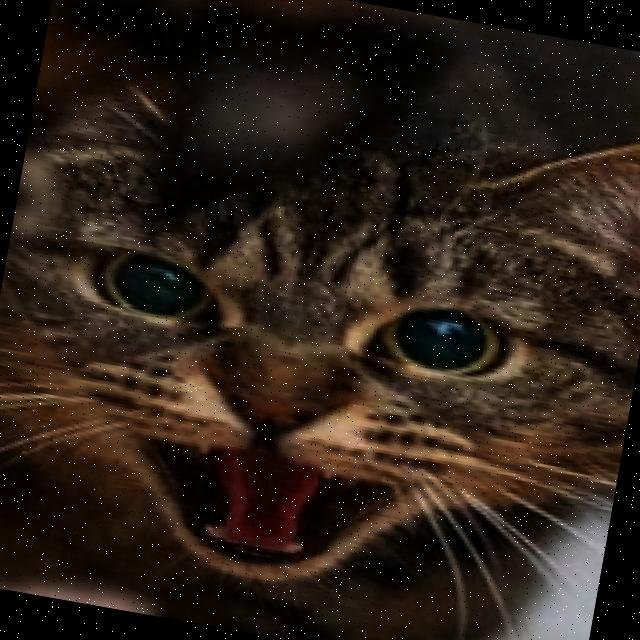Angry: (0, 202, 558, 640)
